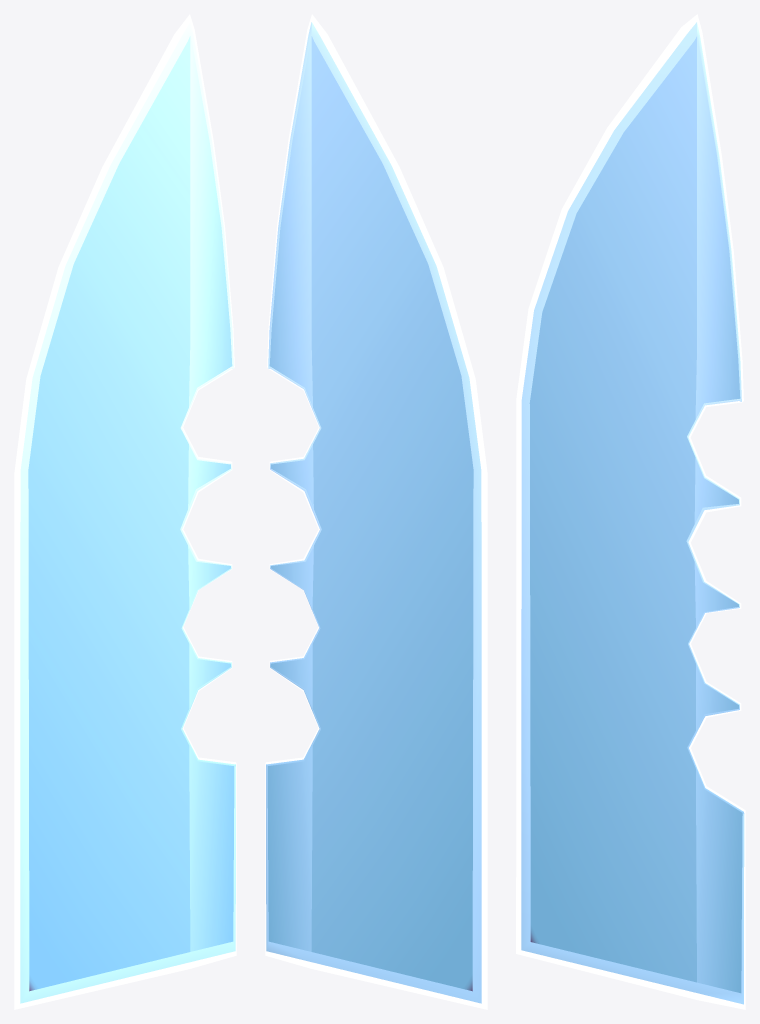
The model's file is steel_blade (1).glb.
The picture shows the model from 3 angles, left to right: view 1: azimuth 30°, elevation 25°; view 2: azimuth 150°, elevation 25°; view 3: azimuth 330°, elevation 25°; orthographic projection. The views are drawn at different scales.
Parts seen in each view (by area): view 1: steel_blade_steel.062; view 2: steel_blade_steel.062; view 3: steel_blade_steel.062.
Part boxes in pixels (x1,y1,x2,y2): steel_blade_steel.062: [14, 14, 236, 1009]; steel_blade_steel.062: [265, 14, 487, 1009]; steel_blade_steel.062: [516, 14, 745, 1009].
Bounding box in the file's own units: 2.79 × 11.43 × 0.0204.
Materials: 1 (1 with a texture image).
